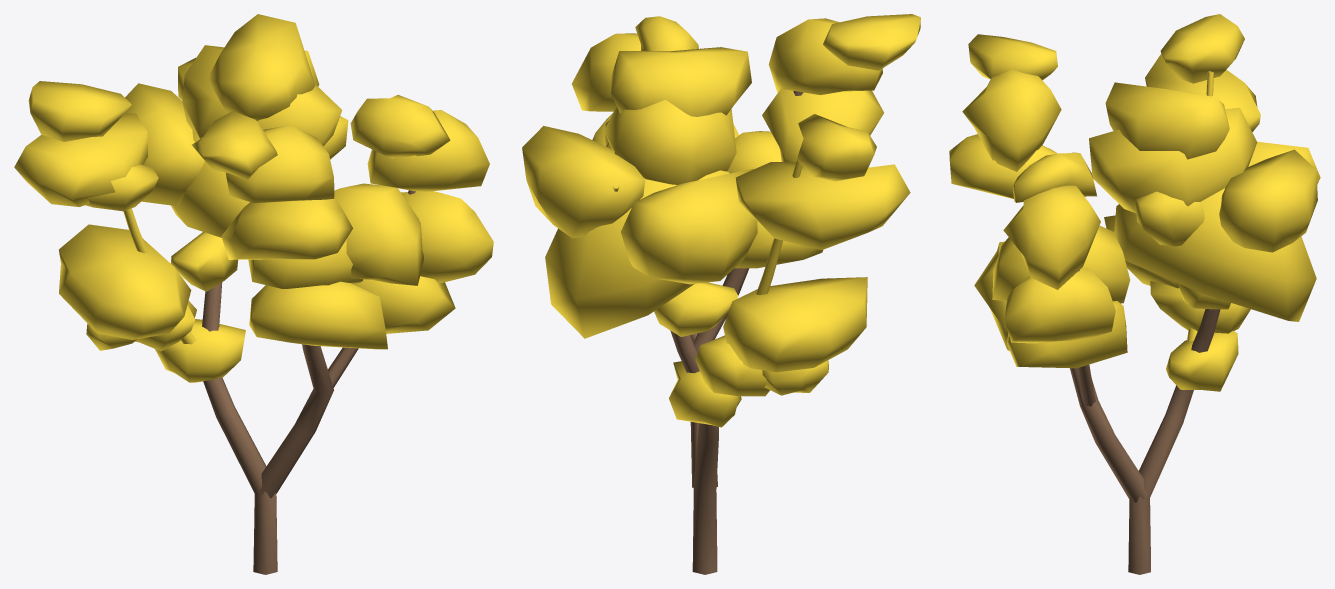
The model's file is tree_5.fbx.
3 views of the same model, side by side, from view 1: azimuth 30°, elevation 25°; view 2: azimuth 150°, elevation 25°; view 3: azimuth 270°, elevation 25° (orthographic). The views are drawn at different scales.
Parts seen in each view (by area): view 1: tree.001; view 2: tree.001; view 3: tree.001.
Part boxes in pixels (x1,y1,x2,y2): tree.001: (14,14,493,574); tree.001: (522,14,920,574); tree.001: (949,14,1320,574).
Size of the model in its own units: 523 by 667 by 461.
